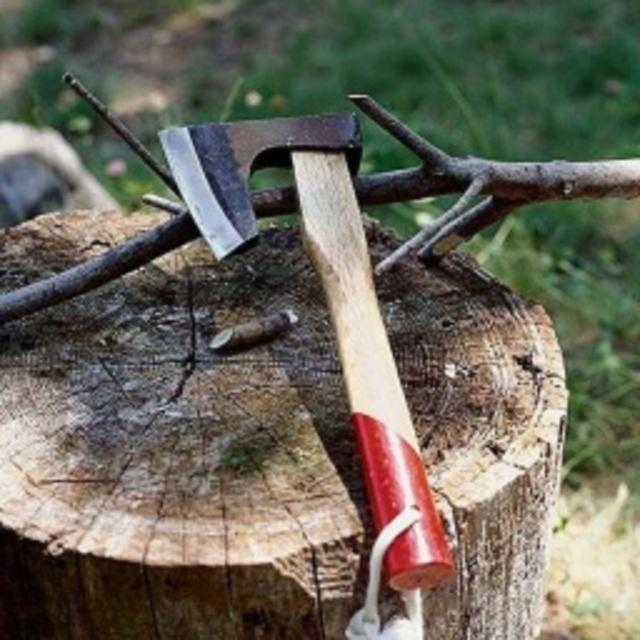ax: (156, 105, 464, 592)
